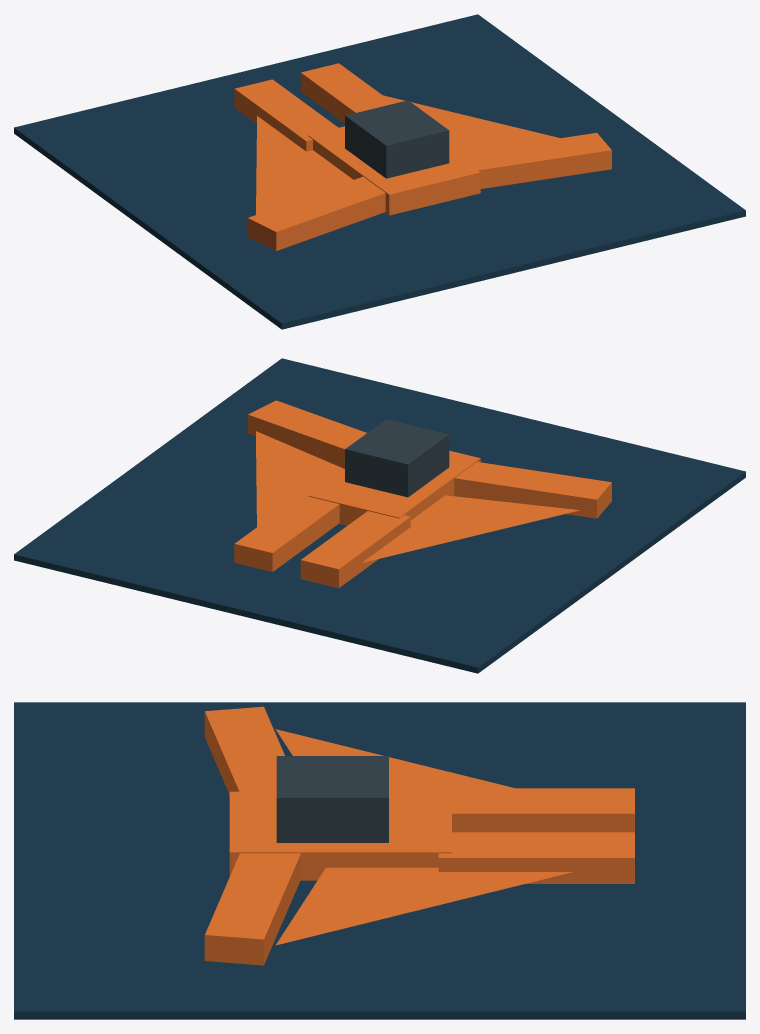
Rendered from wingsuit.glb.
The picture shows the model from 3 angles, top to bottom: view 1: azimuth 30°, elevation 25°; view 2: azimuth 150°, elevation 25°; view 3: azimuth 270°, elevation 25°; orthographic projection. The views are drawn at different scales.
Parts seen in each view (by area): view 1: equipment-mat, suit-arm (×2), wingsuit-ground-equipment, suit-leg (×2), packed-parachute, suit-torso; view 2: equipment-mat, wingsuit-ground-equipment, suit-arm (×2), suit-leg (×2), packed-parachute, suit-torso; view 3: equipment-mat, suit-leg (×2), wingsuit-ground-equipment, suit-arm (×2), suit-torso, packed-parachute.
Part boxes in pixels (box(x1,y1,x2,y2)): equipment-mat: box(14, 14, 745, 329); suit-arm (×2): box(248, 132, 611, 250); wingsuit-ground-equipment: box(256, 95, 559, 214); suit-leg (×2): box(234, 63, 393, 151); packed-parachute: box(345, 100, 449, 178); suit-torso: box(308, 126, 480, 215); equipment-mat: box(14, 358, 745, 673); wingsuit-ground-equipment: box(256, 431, 579, 562); suit-arm (×2): box(248, 400, 611, 518); suit-leg (×2): box(234, 491, 410, 588); packed-parachute: box(345, 419, 449, 497); suit-torso: box(308, 450, 480, 525); equipment-mat: box(14, 702, 745, 1019); suit-leg (×2): box(438, 788, 634, 883); wingsuit-ground-equipment: box(275, 729, 572, 945); suit-arm (×2): box(204, 706, 300, 965); suit-torso: box(229, 791, 451, 880); packed-parachute: box(276, 756, 388, 842).
Size of the model in its own units: 2.8 by 0.3725 by 2.8.
